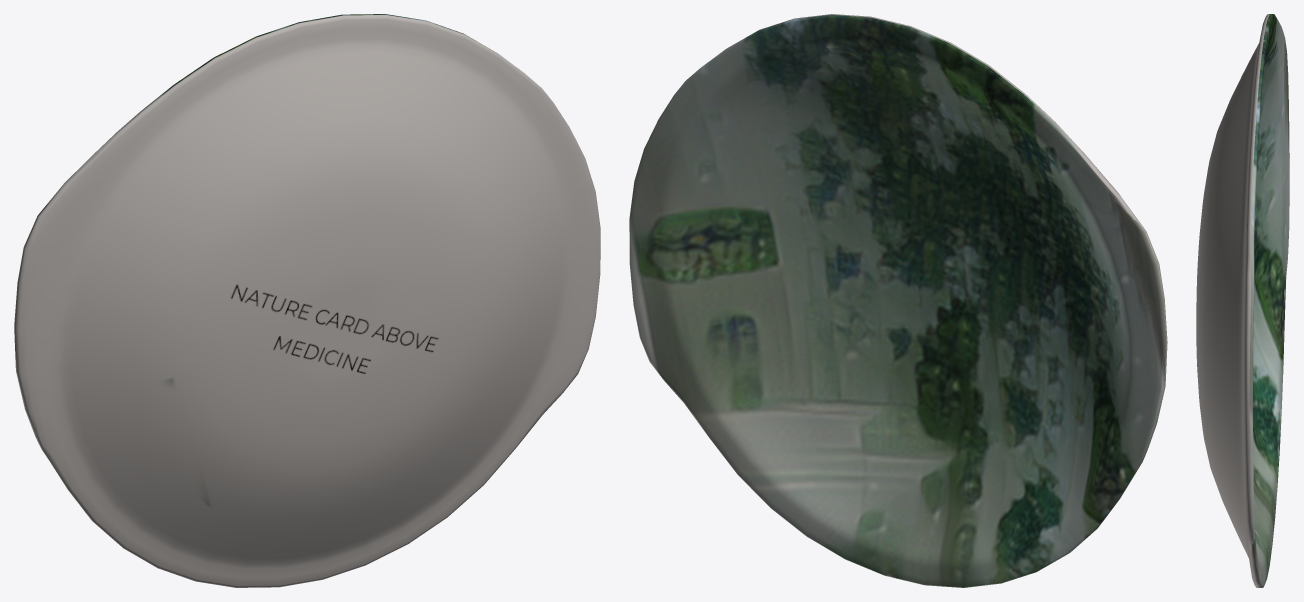
3 renders of one model, left to right at view 1: azimuth 30°, elevation 25°; view 2: azimuth 150°, elevation 25°; view 3: azimuth 270°, elevation 25°, orthographic. The views are drawn at different scales.
Visible parts, largest first — view 1: bluewhitered39:_bluewhitered_39_remodel1 group; view 2: bluewhitered39:_bluewhitered_39_remodel1 group; view 3: bluewhitered39:_bluewhitered_39_remodel1 group.
Boxes of the visible parts, x1,y1,x2,y2 form: bluewhitered39:_bluewhitered_39_remodel1 group: [14, 14, 600, 587]; bluewhitered39:_bluewhitered_39_remodel1 group: [629, 14, 1167, 587]; bluewhitered39:_bluewhitered_39_remodel1 group: [1196, 14, 1289, 587].
Size of the model in its own units: 8.8 by 8.37 by 1.36.
Materials: 1 (1 with a texture image).
